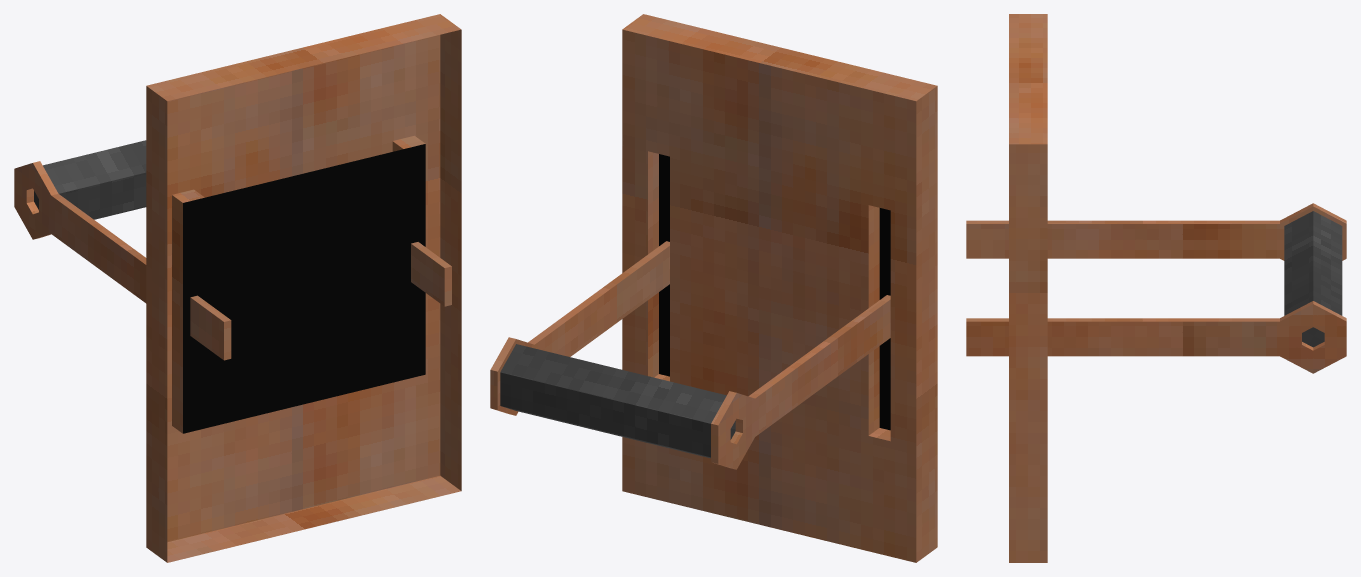
The model's file is Switch.fbx.
The picture shows the model from 3 angles, left to right: view 1: azimuth 30°, elevation 25°; view 2: azimuth 150°, elevation 25°; view 3: azimuth 270°, elevation 25°; orthographic projection. The views are drawn at different scales.
Parts seen in each view (by area): view 1: Plane, Plane.001, Circle.002, Circle.001; view 2: Plane, Circle.002, Circle.001, Plane.001; view 3: Circle.002, Plane, Circle.001.
Part boxes in pixels (x1,y1,x2,y2): Plane: (146, 14, 461, 562); Plane.001: (183, 144, 425, 433); Circle.002: (14, 161, 451, 360); Circle.001: (34, 140, 146, 219); Plane: (622, 14, 937, 562); Circle.002: (490, 241, 890, 469); Circle.001: (500, 344, 735, 458); Plane.001: (659, 154, 890, 430); Circle.002: (966, 203, 1346, 373); Plane: (1009, 14, 1047, 562); Circle.001: (1284, 211, 1342, 347).
Size of the model in its own units: 800 by 1200 by 988.
